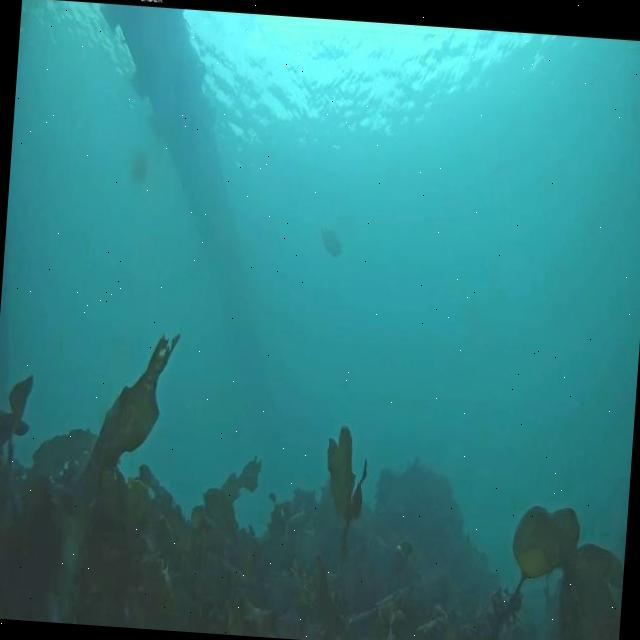fish: (314, 225, 344, 262)
